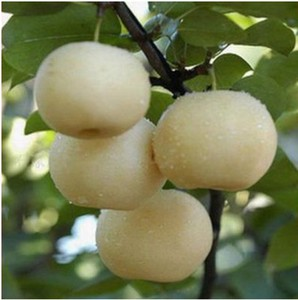pear: (152, 91, 277, 190), (35, 41, 150, 139), (49, 115, 168, 208), (96, 192, 214, 282)
